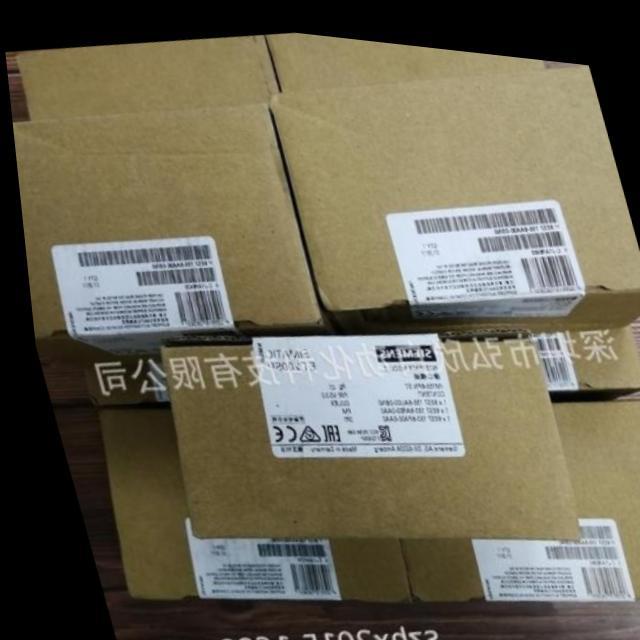box: (269, 51, 640, 332), (154, 328, 570, 535), (10, 101, 331, 364), (88, 403, 401, 596), (391, 382, 640, 593), (12, 29, 279, 123), (335, 311, 639, 387), (266, 26, 547, 85), (30, 348, 142, 407), (134, 356, 160, 401)
